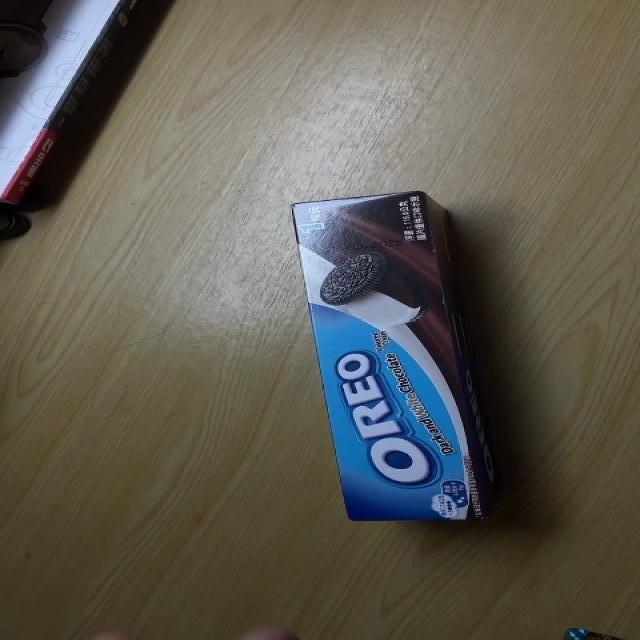Oreo: (291, 189, 515, 523)
